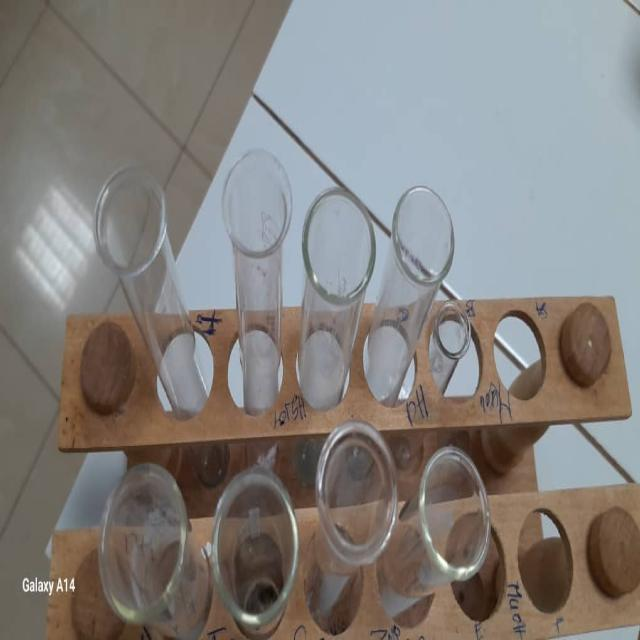Test Tube Racks: (80, 184, 633, 637)
